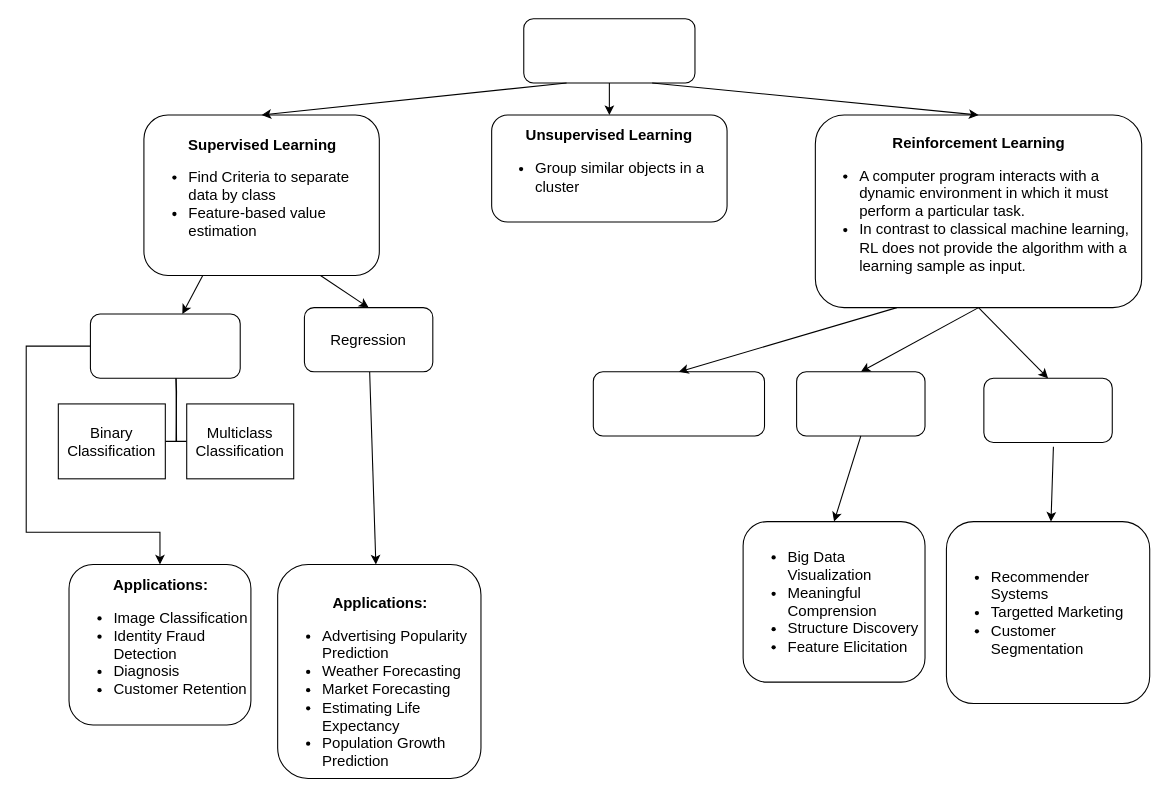
This 1168x804 diagram has some shape labels left out. Each missing label, with the box of its shape:
Anomaly detection: (592, 371, 765, 436)
Classification: (89, 313, 240, 378)
Clustering: (796, 371, 925, 436)
Dimensionality Reduction: (983, 377, 1112, 442)
Machine Learning: (523, 18, 695, 83)
